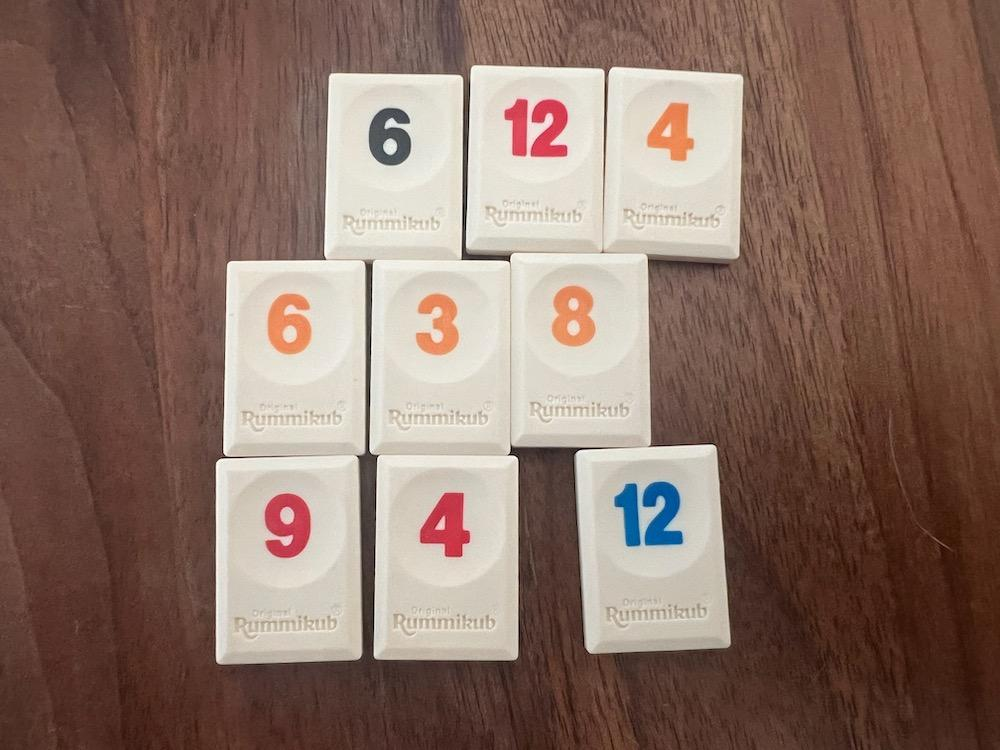black_6: (324, 74, 461, 260)
blue_12: (576, 446, 730, 654)
orange_3: (371, 260, 510, 455)
orange_4: (604, 68, 742, 264)
orange_6: (225, 260, 365, 455)
orange_8: (512, 254, 649, 445)
red_12: (467, 66, 604, 256)
red_4: (375, 455, 518, 658)
red_9: (217, 455, 361, 664)
